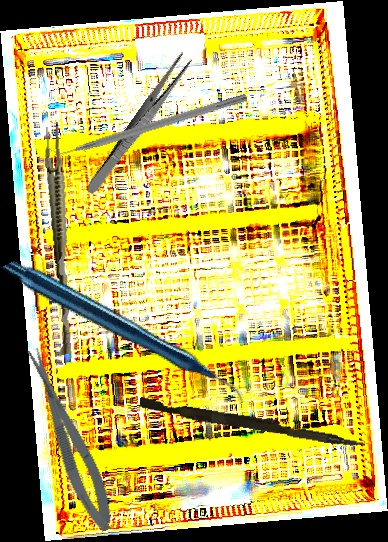Chopper: (44, 82, 248, 162)
Dressing Forceps: (83, 50, 195, 199)
Handpiece: (0, 197, 246, 472)
Micro Scissor: (20, 342, 121, 537)
Pusher: (138, 397, 367, 449)
Tissue Forceps: (39, 126, 81, 355)
